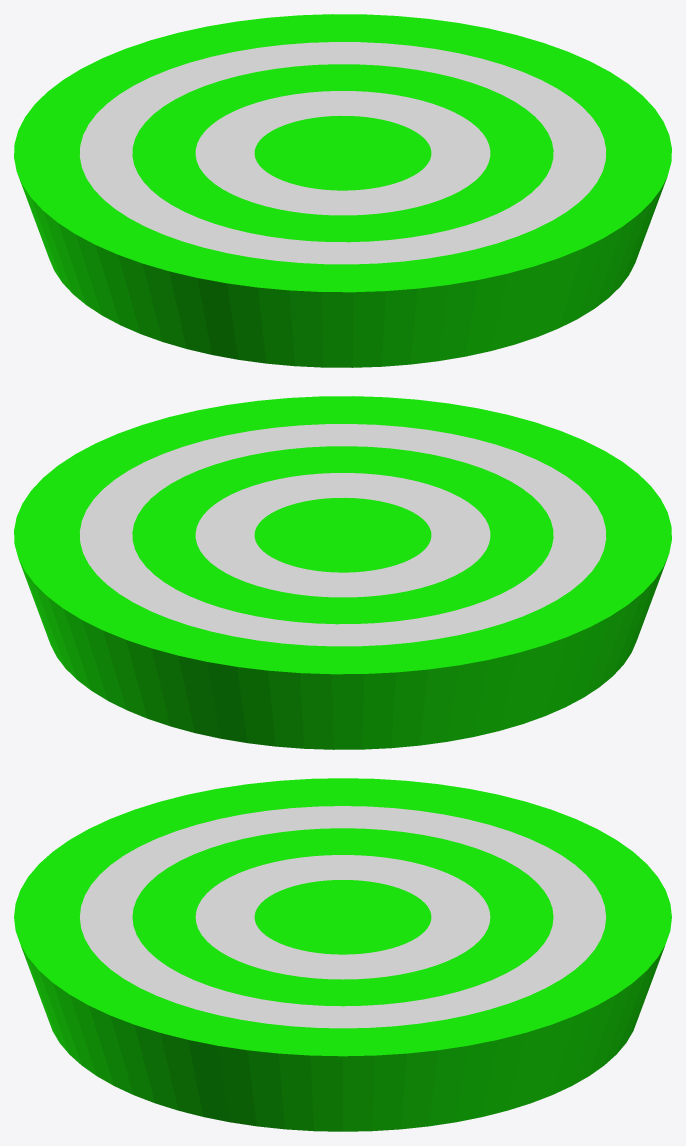
The model's file is Board_Green.fbx.
The picture shows the model from 3 angles, top to bottom: view 1: azimuth 30°, elevation 25°; view 2: azimuth 150°, elevation 25°; view 3: azimuth 270°, elevation 25°; orthographic projection.
Visible parts, largest first — view 1: Board_Green; view 2: Board_Green; view 3: Board_Green.
Part boxes in pixels (bbox=[...]): Board_Green: bbox=[14, 14, 671, 367]; Board_Green: bbox=[14, 396, 671, 749]; Board_Green: bbox=[14, 778, 671, 1131].
Bounding box in the file's own units: 200 × 30 × 200.
